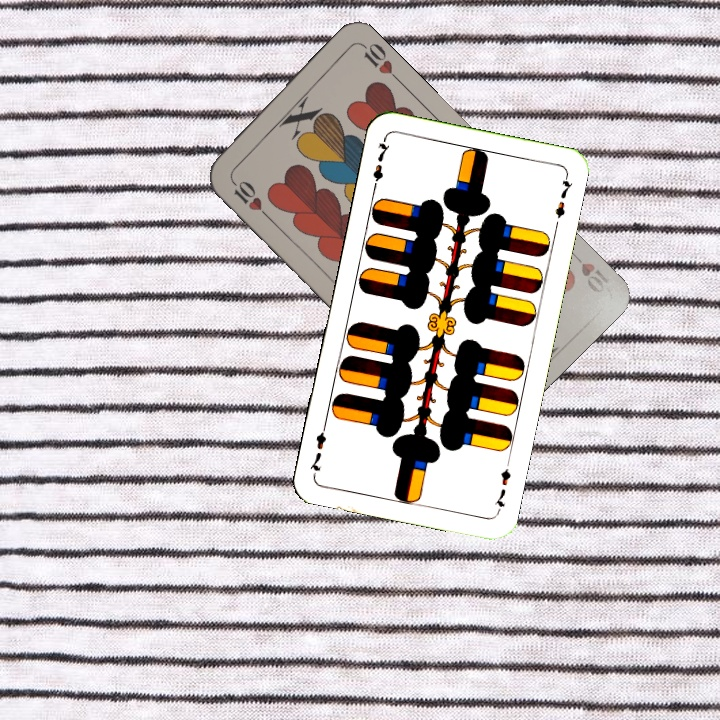E7: (368, 135, 393, 194), (490, 464, 513, 515)
H10: (565, 245, 612, 296), (226, 174, 272, 221)
